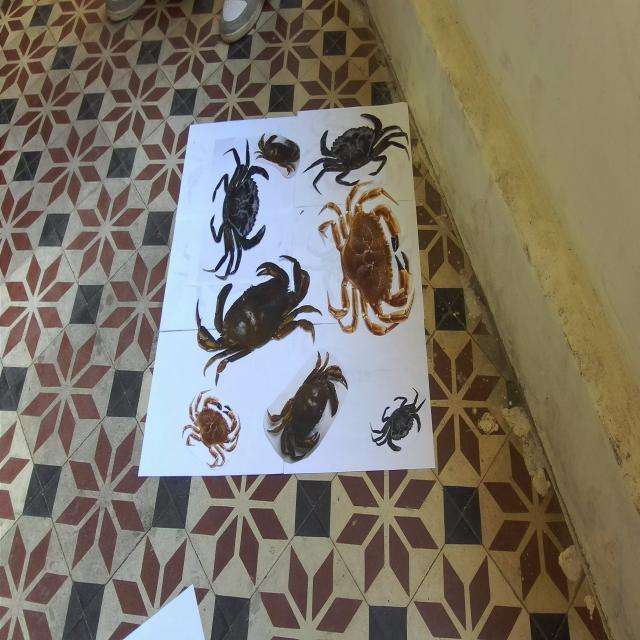European_Green_Crab: (202, 127, 277, 296), (297, 96, 411, 207), (367, 375, 433, 470)
